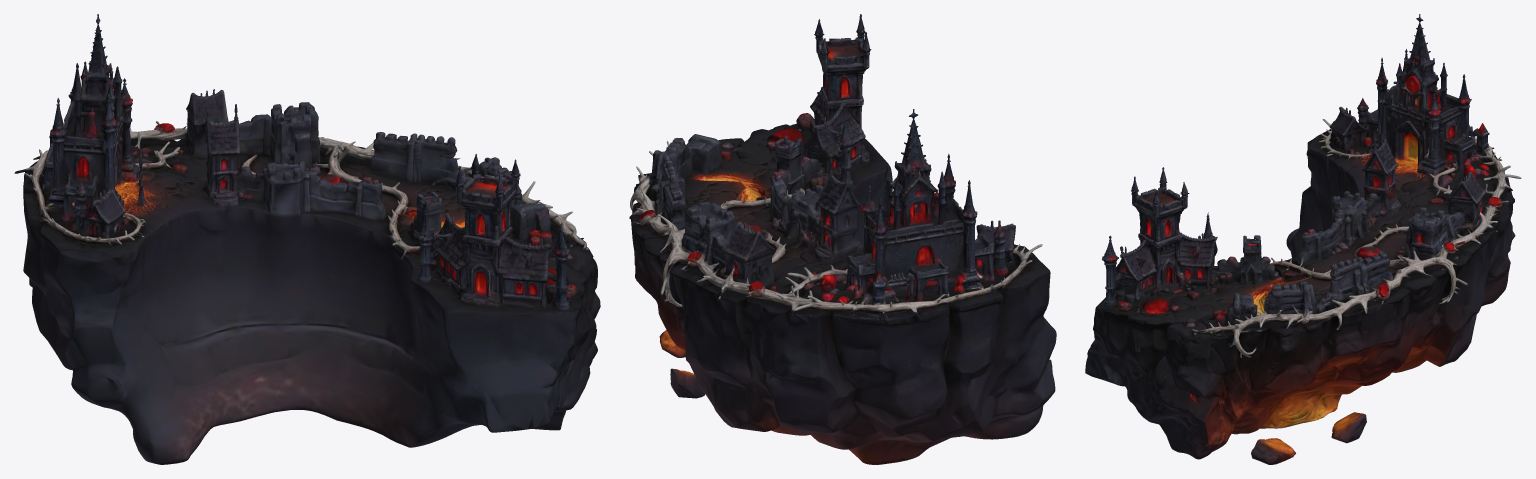
The model's file is hell.glb.
The picture shows the model from 3 angles, left to right: view 1: azimuth 30°, elevation 25°; view 2: azimuth 150°, elevation 25°; view 3: azimuth 270°, elevation 25°; orthographic projection. The views are drawn at different scales.
Parts seen in each view (by area): view 1: vizcom_node_0; view 2: vizcom_node_0; view 3: vizcom_node_0.
Boxes of the visible parts, left/top/right/bottom form: vizcom_node_0: left=14, top=14, right=600, bottom=464; vizcom_node_0: left=629, top=14, right=1056, bottom=464; vizcom_node_0: left=1085, top=14, right=1521, bottom=464.
Bounding box in the file's own units: 1.23 × 0.9999 × 1.25.
1 material, 1 textured.
